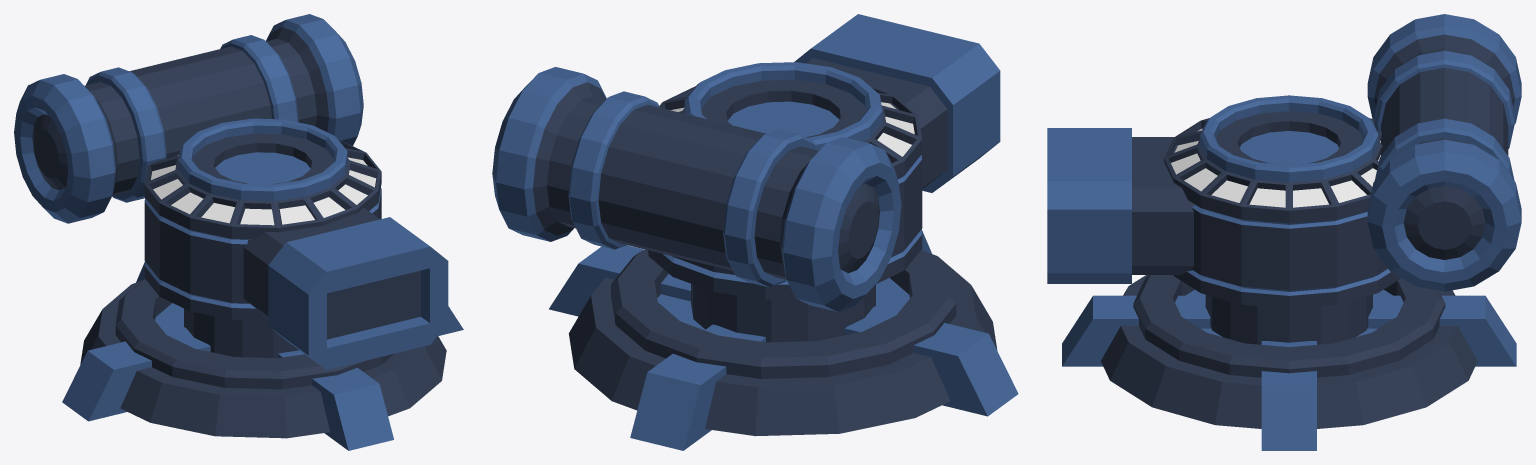
The model's file is UpgCryosis2.fbx.
3 views of the same model, side by side, from view 1: azimuth 30°, elevation 25°; view 2: azimuth 150°, elevation 25°; view 3: azimuth 270°, elevation 25° (orthographic). The views are drawn at different scales.
Parts seen in each view (by area): view 1: Cylinder.022, Cylinder.021; view 2: Cylinder.022, Cylinder.021; view 3: Cylinder.022, Cylinder.021.
Part boxes in pixels (left/top/right/bottom): Cylinder.022: left=14, top=14, right=448, bottom=369; Cylinder.021: left=62, top=262, right=463, bottom=450; Cylinder.022: left=492, top=14, right=1000, bottom=311; Cylinder.021: left=549, top=229, right=1018, bottom=450; Cylinder.022: left=1047, top=14, right=1521, bottom=308; Cylinder.021: left=1062, top=275, right=1516, bottom=450.
Size of the model in its own units: 93.74 by 61.92 by 97.91.
